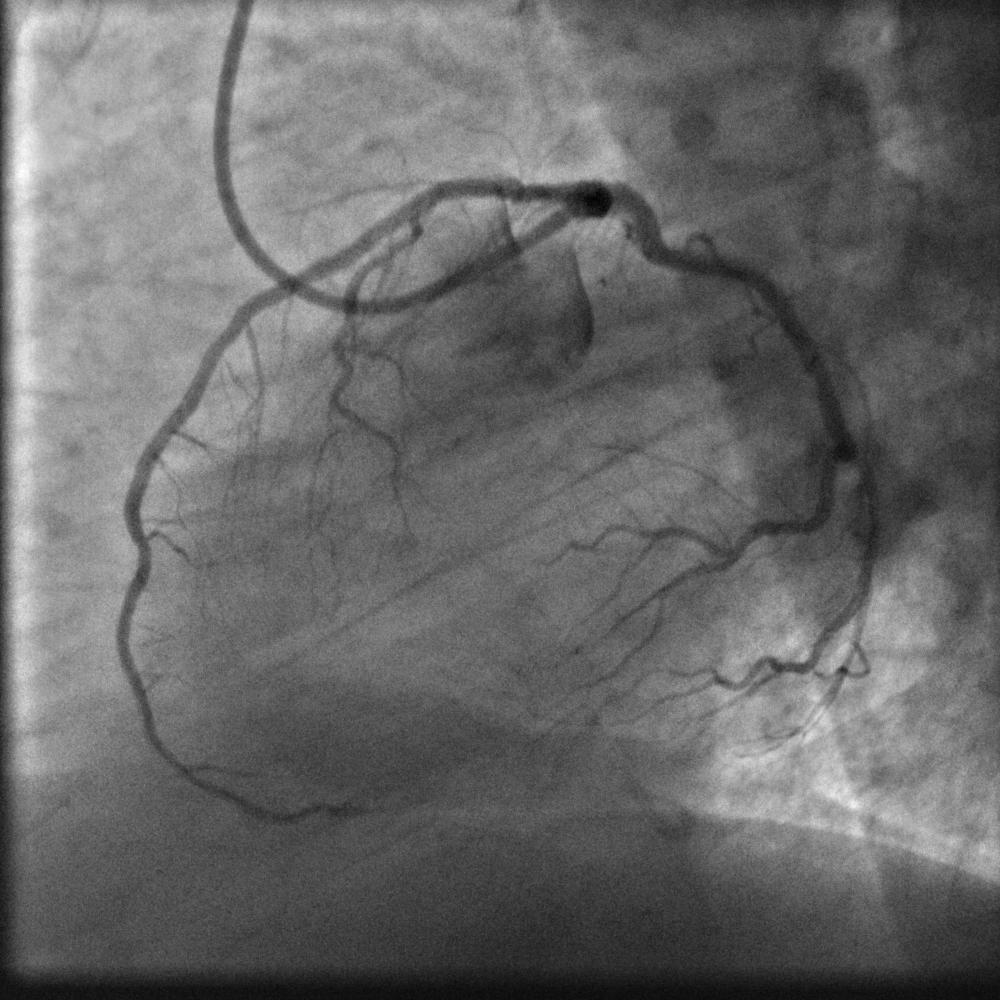Stenosis: (499, 176, 535, 201)
